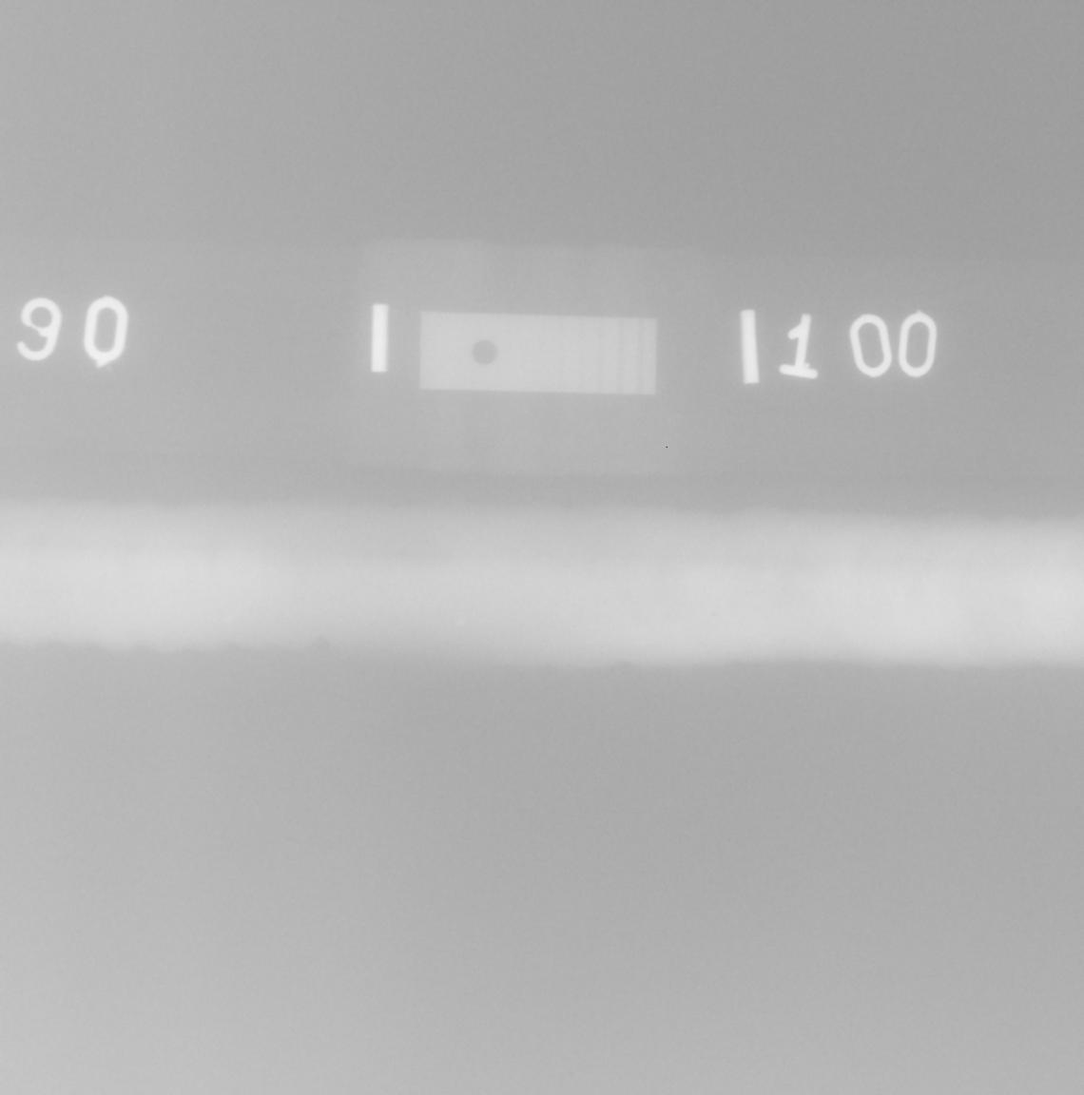Pore/Porosity: (711, 612, 718, 618)
Reference Standard 1: (420, 312, 656, 395)
